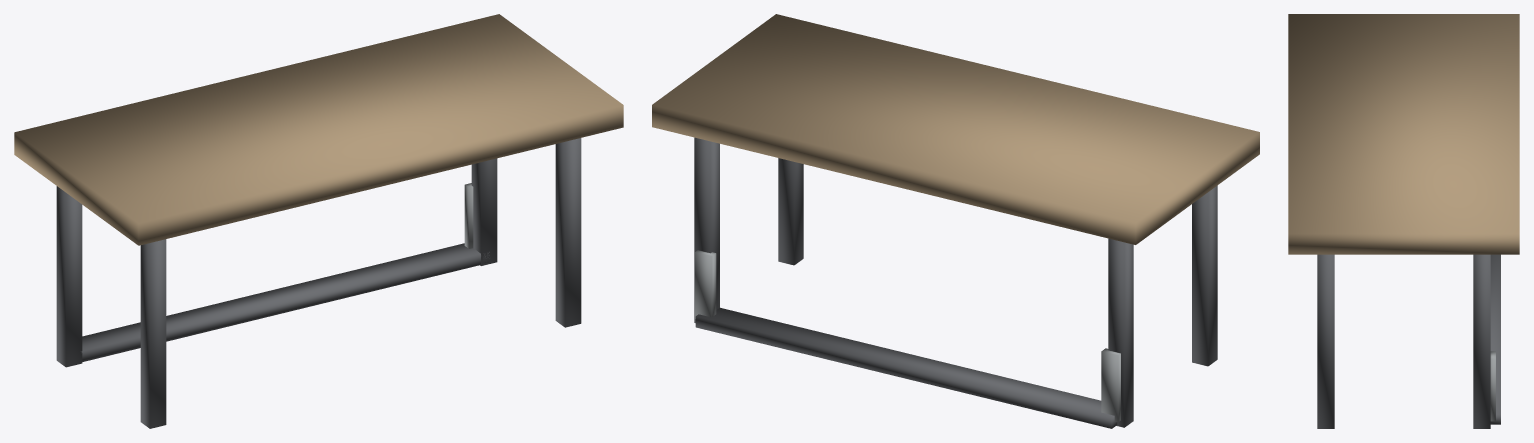
Rendered from library_reading_table__reinforced.glb.
3 views of the same model, side by side, from view 1: azimuth 30°, elevation 25°; view 2: azimuth 150°, elevation 25°; view 3: azimuth 270°, elevation 25° (orthographic). The views are drawn at different scales.
Visible parts, largest first — view 1: world; view 2: world; view 3: world.
Part boxes in pixels (<box>): world: <box>14,14,623,428</box>; world: <box>652,14,1259,428</box>; world: <box>1288,14,1519,428</box>.
Bounding box in the file's own units: 1.85 × 0.816 × 0.824.
